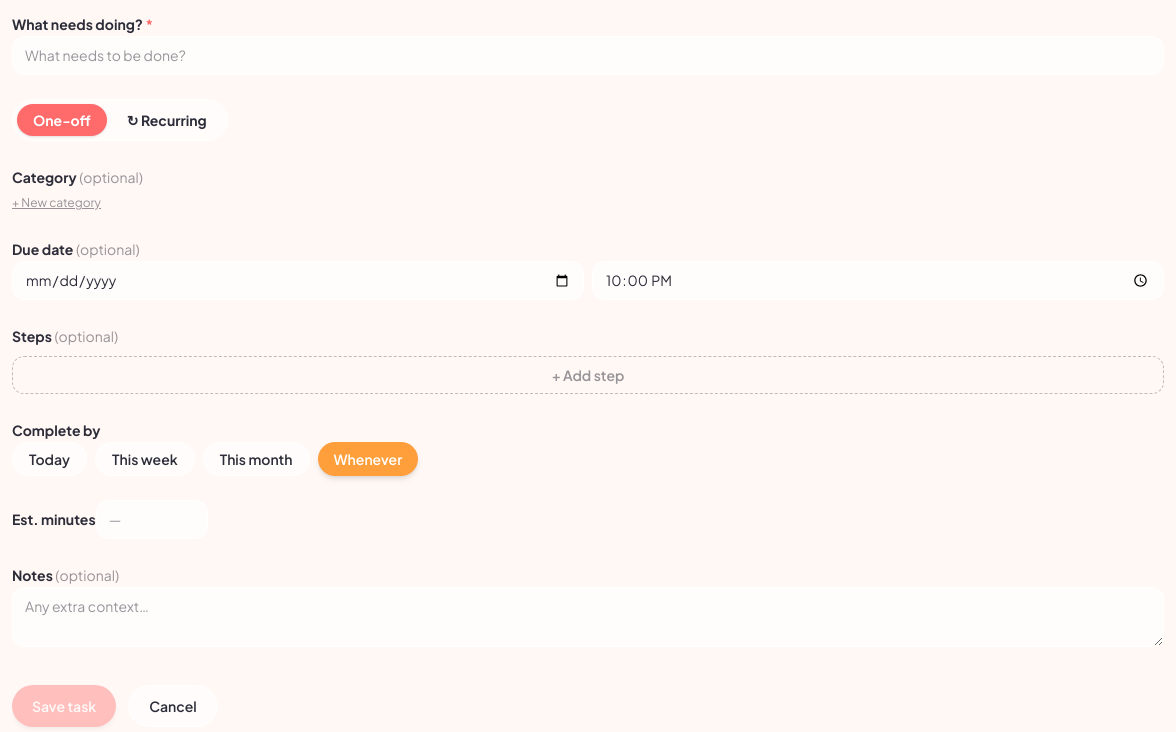
Scenario: TaskForm › enables submit once title is filled
This screenshot has width=1176, height=732.
In the field with placeholder "What needs to be done?": (588, 56) [12,36,1164,75], type "Buy milk"
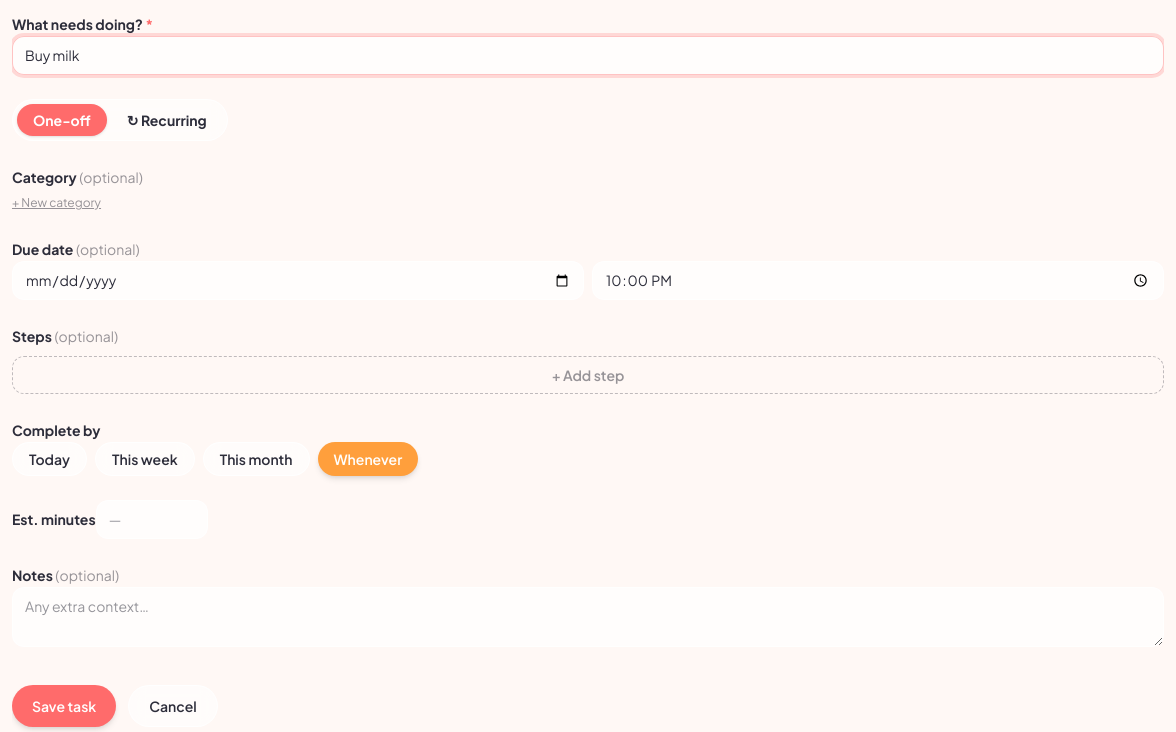
Expected: the button "Save task" is enabled, [12,685,116,727]
